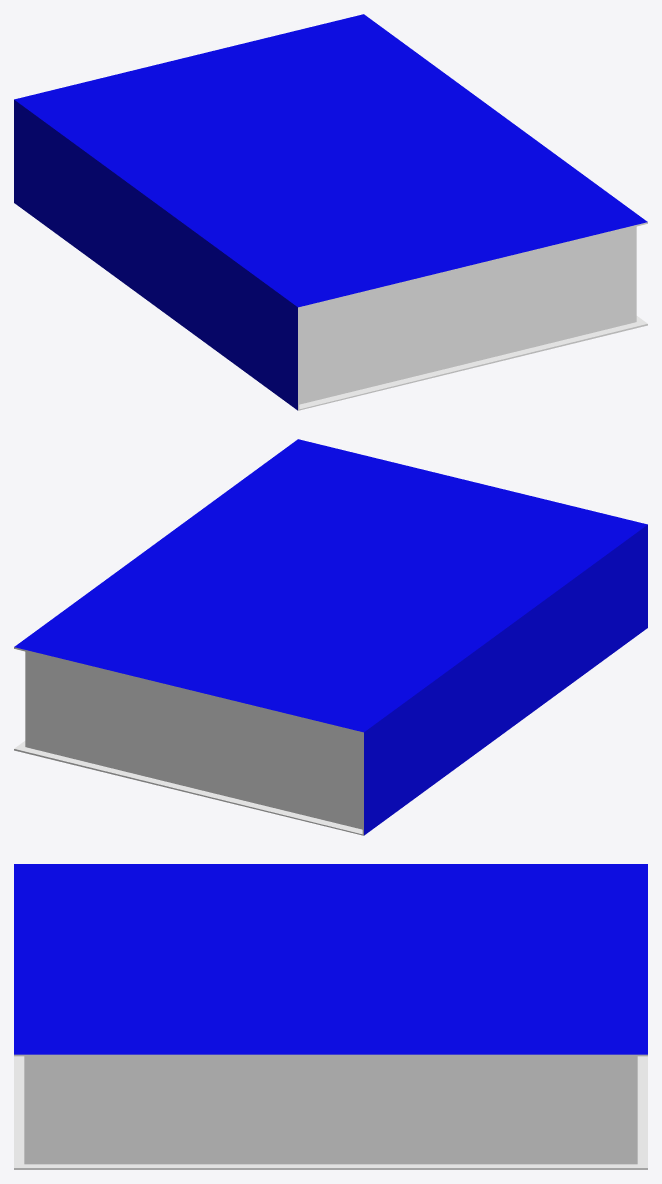
Rendered from Book_06.fbx.
3 renders of one model, top to bottom at view 1: azimuth 30°, elevation 25°; view 2: azimuth 150°, elevation 25°; view 3: azimuth 270°, elevation 25°, orthographic. The views are drawn at different scales.
Visible parts, largest first — view 1: Book_06; view 2: Book_06; view 3: Book_06.
Boxes of the visible parts, x1,y1,x2,y2 form: Book_06: [14, 14, 647, 410]; Book_06: [14, 439, 647, 835]; Book_06: [14, 864, 647, 1169].
Size of the model in its own units: 21.61 by 6.1 by 30.4.
